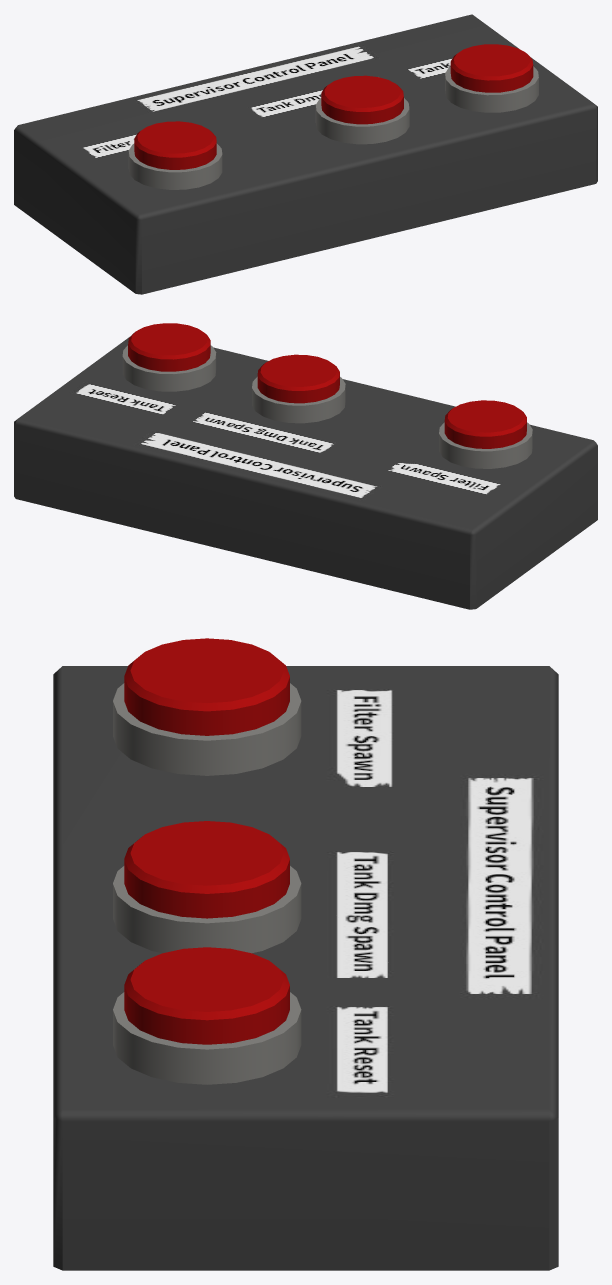
Rendered from Master_Control_Panel.fbx.
3 views of the same model, one above another, from view 1: azimuth 30°, elevation 25°; view 2: azimuth 150°, elevation 25°; view 3: azimuth 270°, elevation 25° (orthographic). The views are drawn at different scales.
Parts seen in each view (by area): view 1: ControlPanel, Button3, Button1, Button2; view 2: ControlPanel, Button2, Button3, Button1; view 3: ControlPanel, Button1, Button3, Button2.
Part boxes in pixels (x1=…): ControlPanel: x1=14, y1=14, x2=597, y2=294; Button3: x1=450, y1=44, x2=533, y2=92; Button1: x1=134, y1=121, x2=216, y2=169; Button2: x1=321, y1=75, x2=403, y2=124; ControlPanel: x1=14, y1=336, x2=597, y2=609; Button2: x1=257, y1=354, x2=339, y2=403; Button3: x1=128, y1=323, x2=210, y2=371; Button1: x1=444, y1=400, x2=526, y2=448; ControlPanel: x1=53, y1=666, x2=558, y2=1270; Button1: x1=124, y1=638, x2=289, y2=735; Button3: x1=124, y1=947, x2=289, y2=1044; Button2: x1=124, y1=821, x2=289, y2=918.
Bounding box in the file's own units: 2.11 × 0.4863 × 1.
